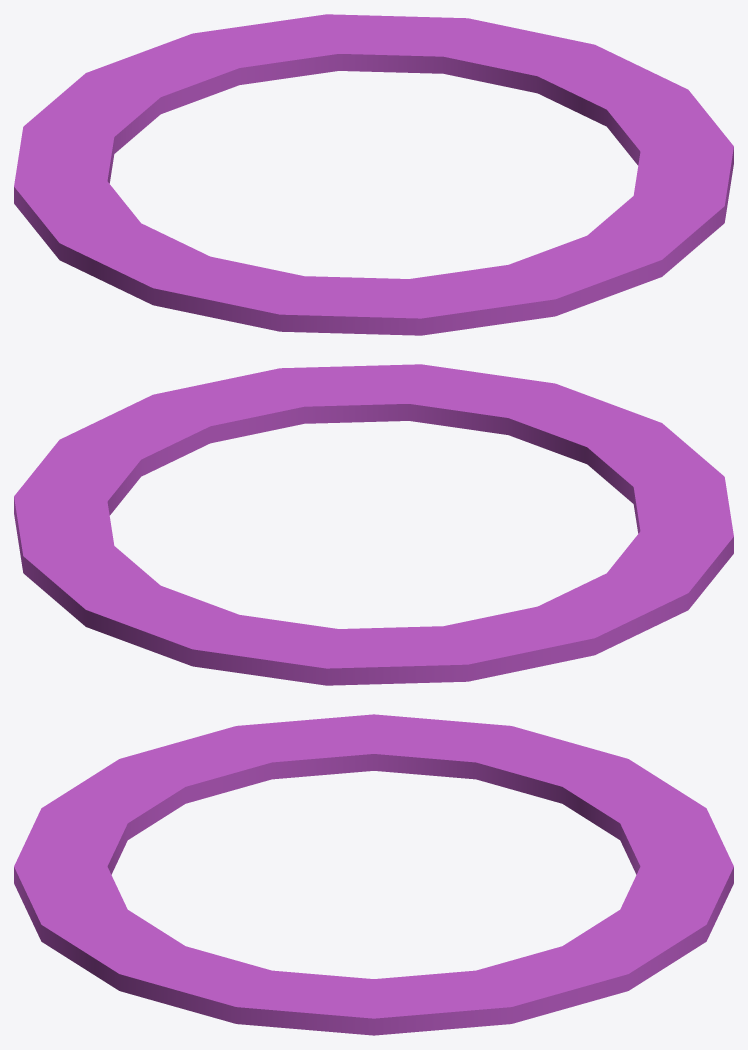
File: IMU.gltf
3 views of the same model, one above another, from view 1: azimuth 30°, elevation 25°; view 2: azimuth 150°, elevation 25°; view 3: azimuth 270°, elevation 25° (orthographic).
Visible parts, largest first — view 1: mesh7500, mesh7499, mesh7501; view 2: mesh7500, mesh7499, mesh7501; view 3: mesh7500, mesh7499, mesh7501.
Boxes of the visible parts, <box> form: mesh7500: <box>14,14,733,318</box>; mesh7499: <box>14,147,733,335</box>; mesh7501: <box>107,54,640,183</box>; mesh7500: <box>14,364,733,668</box>; mesh7499: <box>14,497,733,685</box>; mesh7501: <box>107,404,640,533</box>; mesh7500: <box>14,714,733,1018</box>; mesh7499: <box>14,867,733,1035</box>; mesh7501: <box>107,754,640,874</box>.
Size of the model in its own units: 0.00385 by 0.0001 by 0.00385.
